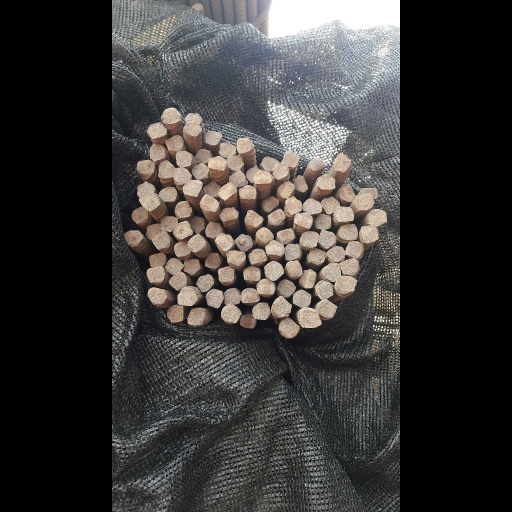dipstick: (284, 295, 320, 318), (296, 317, 334, 338), (333, 308, 373, 327), (114, 288, 152, 305), (194, 304, 226, 324), (292, 278, 327, 296), (366, 299, 399, 318), (41, 160, 80, 176), (400, 224, 439, 240), (65, 142, 99, 160), (455, 209, 489, 227), (324, 211, 359, 228), (380, 245, 415, 262), (62, 287, 95, 305), (271, 261, 304, 279), (361, 280, 394, 298), (394, 206, 431, 222), (127, 177, 158, 196), (166, 289, 197, 308), (394, 152, 423, 172), (336, 269, 365, 289), (88, 107, 122, 124), (321, 290, 355, 307), (224, 184, 258, 201), (440, 225, 474, 242), (347, 248, 381, 265), (400, 276, 434, 293), (61, 122, 97, 138), (158, 194, 190, 212), (133, 308, 165, 326), (360, 212, 392, 230), (368, 228, 398, 247), (112, 221, 145, 238), (236, 209, 269, 226), (372, 196, 405, 213), (184, 233, 215, 251), (46, 194, 83, 209), (309, 196, 338, 215), (112, 150, 144, 167), (189, 182, 221, 199), (187, 266, 219, 283), (204, 249, 238, 265), (242, 248, 276, 264), (272, 240, 306, 256), (414, 241, 446, 258), (361, 174, 397, 189), (58, 267, 94, 282), (136, 234, 166, 252), (250, 303, 280, 321), (376, 262, 406, 280), (337, 199, 375, 213), (111, 201, 144, 217), (432, 193, 465, 209), (335, 231, 368, 247), (81, 161, 112, 178), (149, 274, 180, 291), (306, 260, 337, 277), (141, 163, 173, 179), (83, 186, 115, 202), (232, 265, 264, 281), (265, 195, 297, 211), (110, 167, 140, 184), (106, 240, 140, 255), (136, 215, 164, 233), (96, 134, 127, 150), (221, 137, 252, 153), (22, 230, 53, 246), (101, 273, 132, 289), (257, 279, 288, 295), (306, 243, 337, 259), (171, 156, 204, 171), (191, 207, 224, 222), (255, 228, 288, 243), (99, 304, 128, 321), (405, 259, 434, 276), (161, 181, 191, 197), (208, 170, 240, 185), (85, 216, 117, 231), (57, 223, 89, 238), (96, 258, 128, 273), (218, 234, 248, 250), (126, 122, 160, 136), (304, 150, 332, 167), (296, 181, 324, 198), (231, 288, 262, 303), (279, 208, 310, 223), (252, 170, 285, 184), (190, 142, 220, 157), (265, 156, 297, 170), (164, 252, 192, 268), (199, 288, 227, 304), (293, 228, 325, 242), (164, 130, 193, 145), (64, 252, 95, 266), (72, 232, 99, 248), (168, 221, 195, 237), (287, 163, 315, 178), (34, 208, 62, 223), (404, 184, 430, 200), (323, 175, 347, 192), (205, 155, 232, 170), (228, 314, 255, 329), (42, 182, 75, 194), (128, 258, 154, 273), (349, 157, 378, 170), (129, 112, 160, 124), (146, 149, 174, 162), (239, 167, 261, 181)
